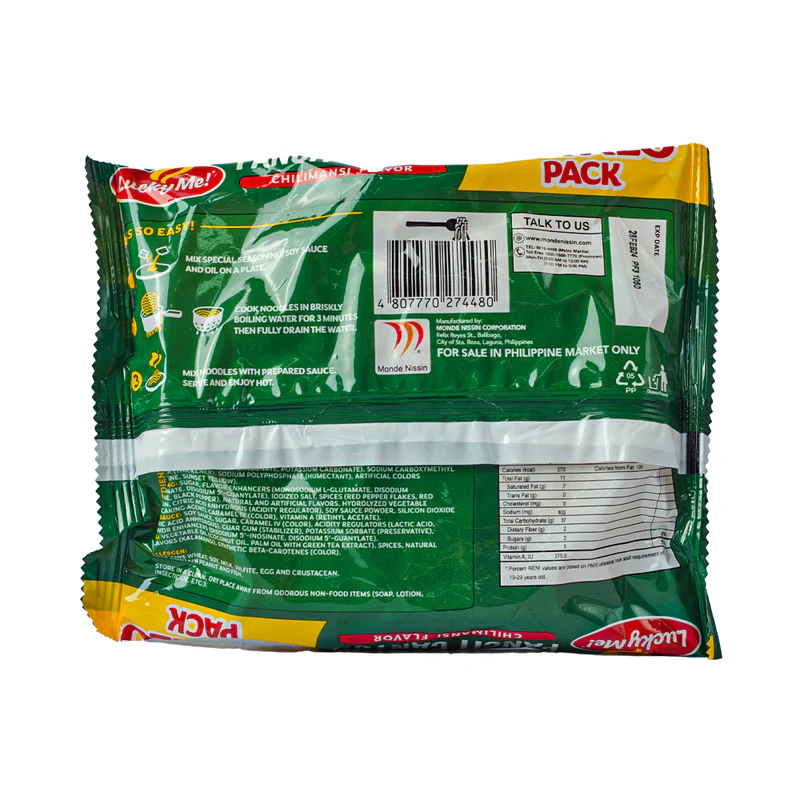non-toxic_waste: (97, 167, 697, 653)
